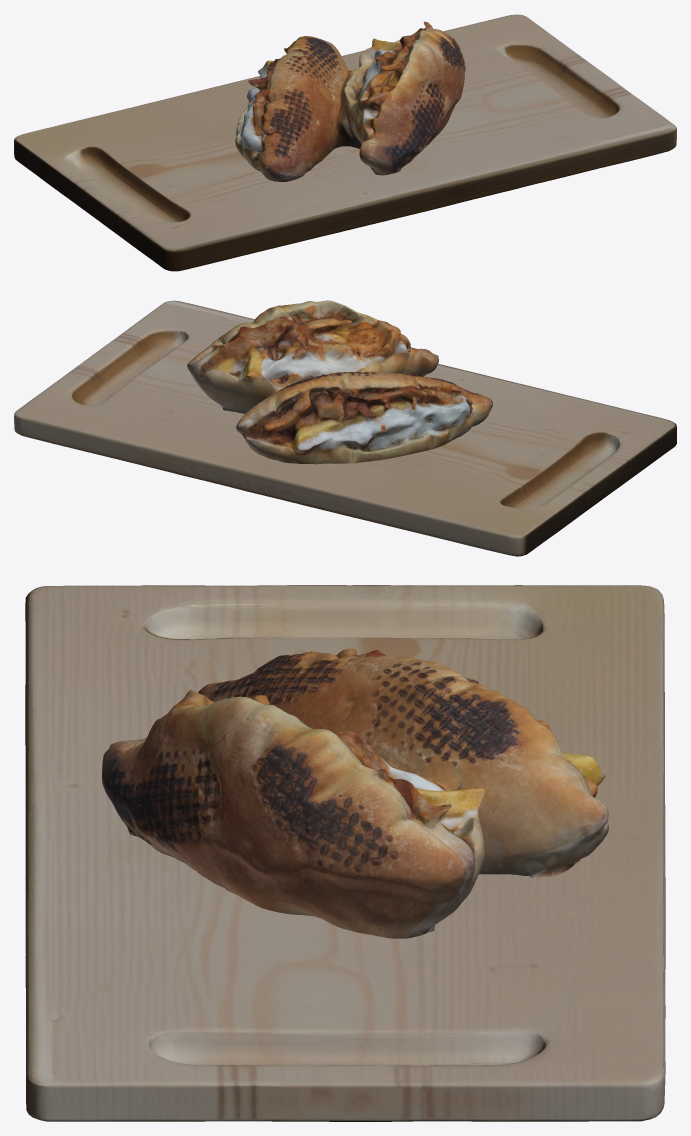
Rendered from alo.yerevan.potatos.shawerma.glb.
The picture shows the model from 3 angles, top to bottom: view 1: azimuth 30°, elevation 25°; view 2: azimuth 150°, elevation 25°; view 3: azimuth 270°, elevation 25°; orthographic projection. The views are drawn at different scales.
Parts seen in each view (by area): view 1: /Root/Scenes/Scene/Object_37/Object_38/Object_39/Submesh_0, /Root/Scenes/Scene/Object_37/Object_42/Submesh_0; view 2: /Root/Scenes/Scene/Object_37/Object_38/Object_39/Submesh_0, /Root/Scenes/Scene/Object_37/Object_42/Submesh_0; view 3: /Root/Scenes/Scene/Object_37/Object_38/Object_39/Submesh_0, /Root/Scenes/Scene/Object_37/Object_42/Submesh_0.
Part boxes in pixels (x1,y1,x2,y2): /Root/Scenes/Scene/Object_37/Object_38/Object_39/Submesh_0: (14, 14, 676, 271); /Root/Scenes/Scene/Object_37/Object_42/Submesh_0: (235, 21, 465, 181); /Root/Scenes/Scene/Object_37/Object_38/Object_39/Submesh_0: (14, 300, 676, 556); /Root/Scenes/Scene/Object_37/Object_42/Submesh_0: (187, 300, 492, 464); /Root/Scenes/Scene/Object_37/Object_38/Object_39/Submesh_0: (25, 585, 665, 1121); /Root/Scenes/Scene/Object_37/Object_42/Submesh_0: (102, 648, 608, 938).
Bounding box in the file's own units: 0.4287 × 0.0884 × 0.2322.
Materials: 2 (2 with a texture image).
